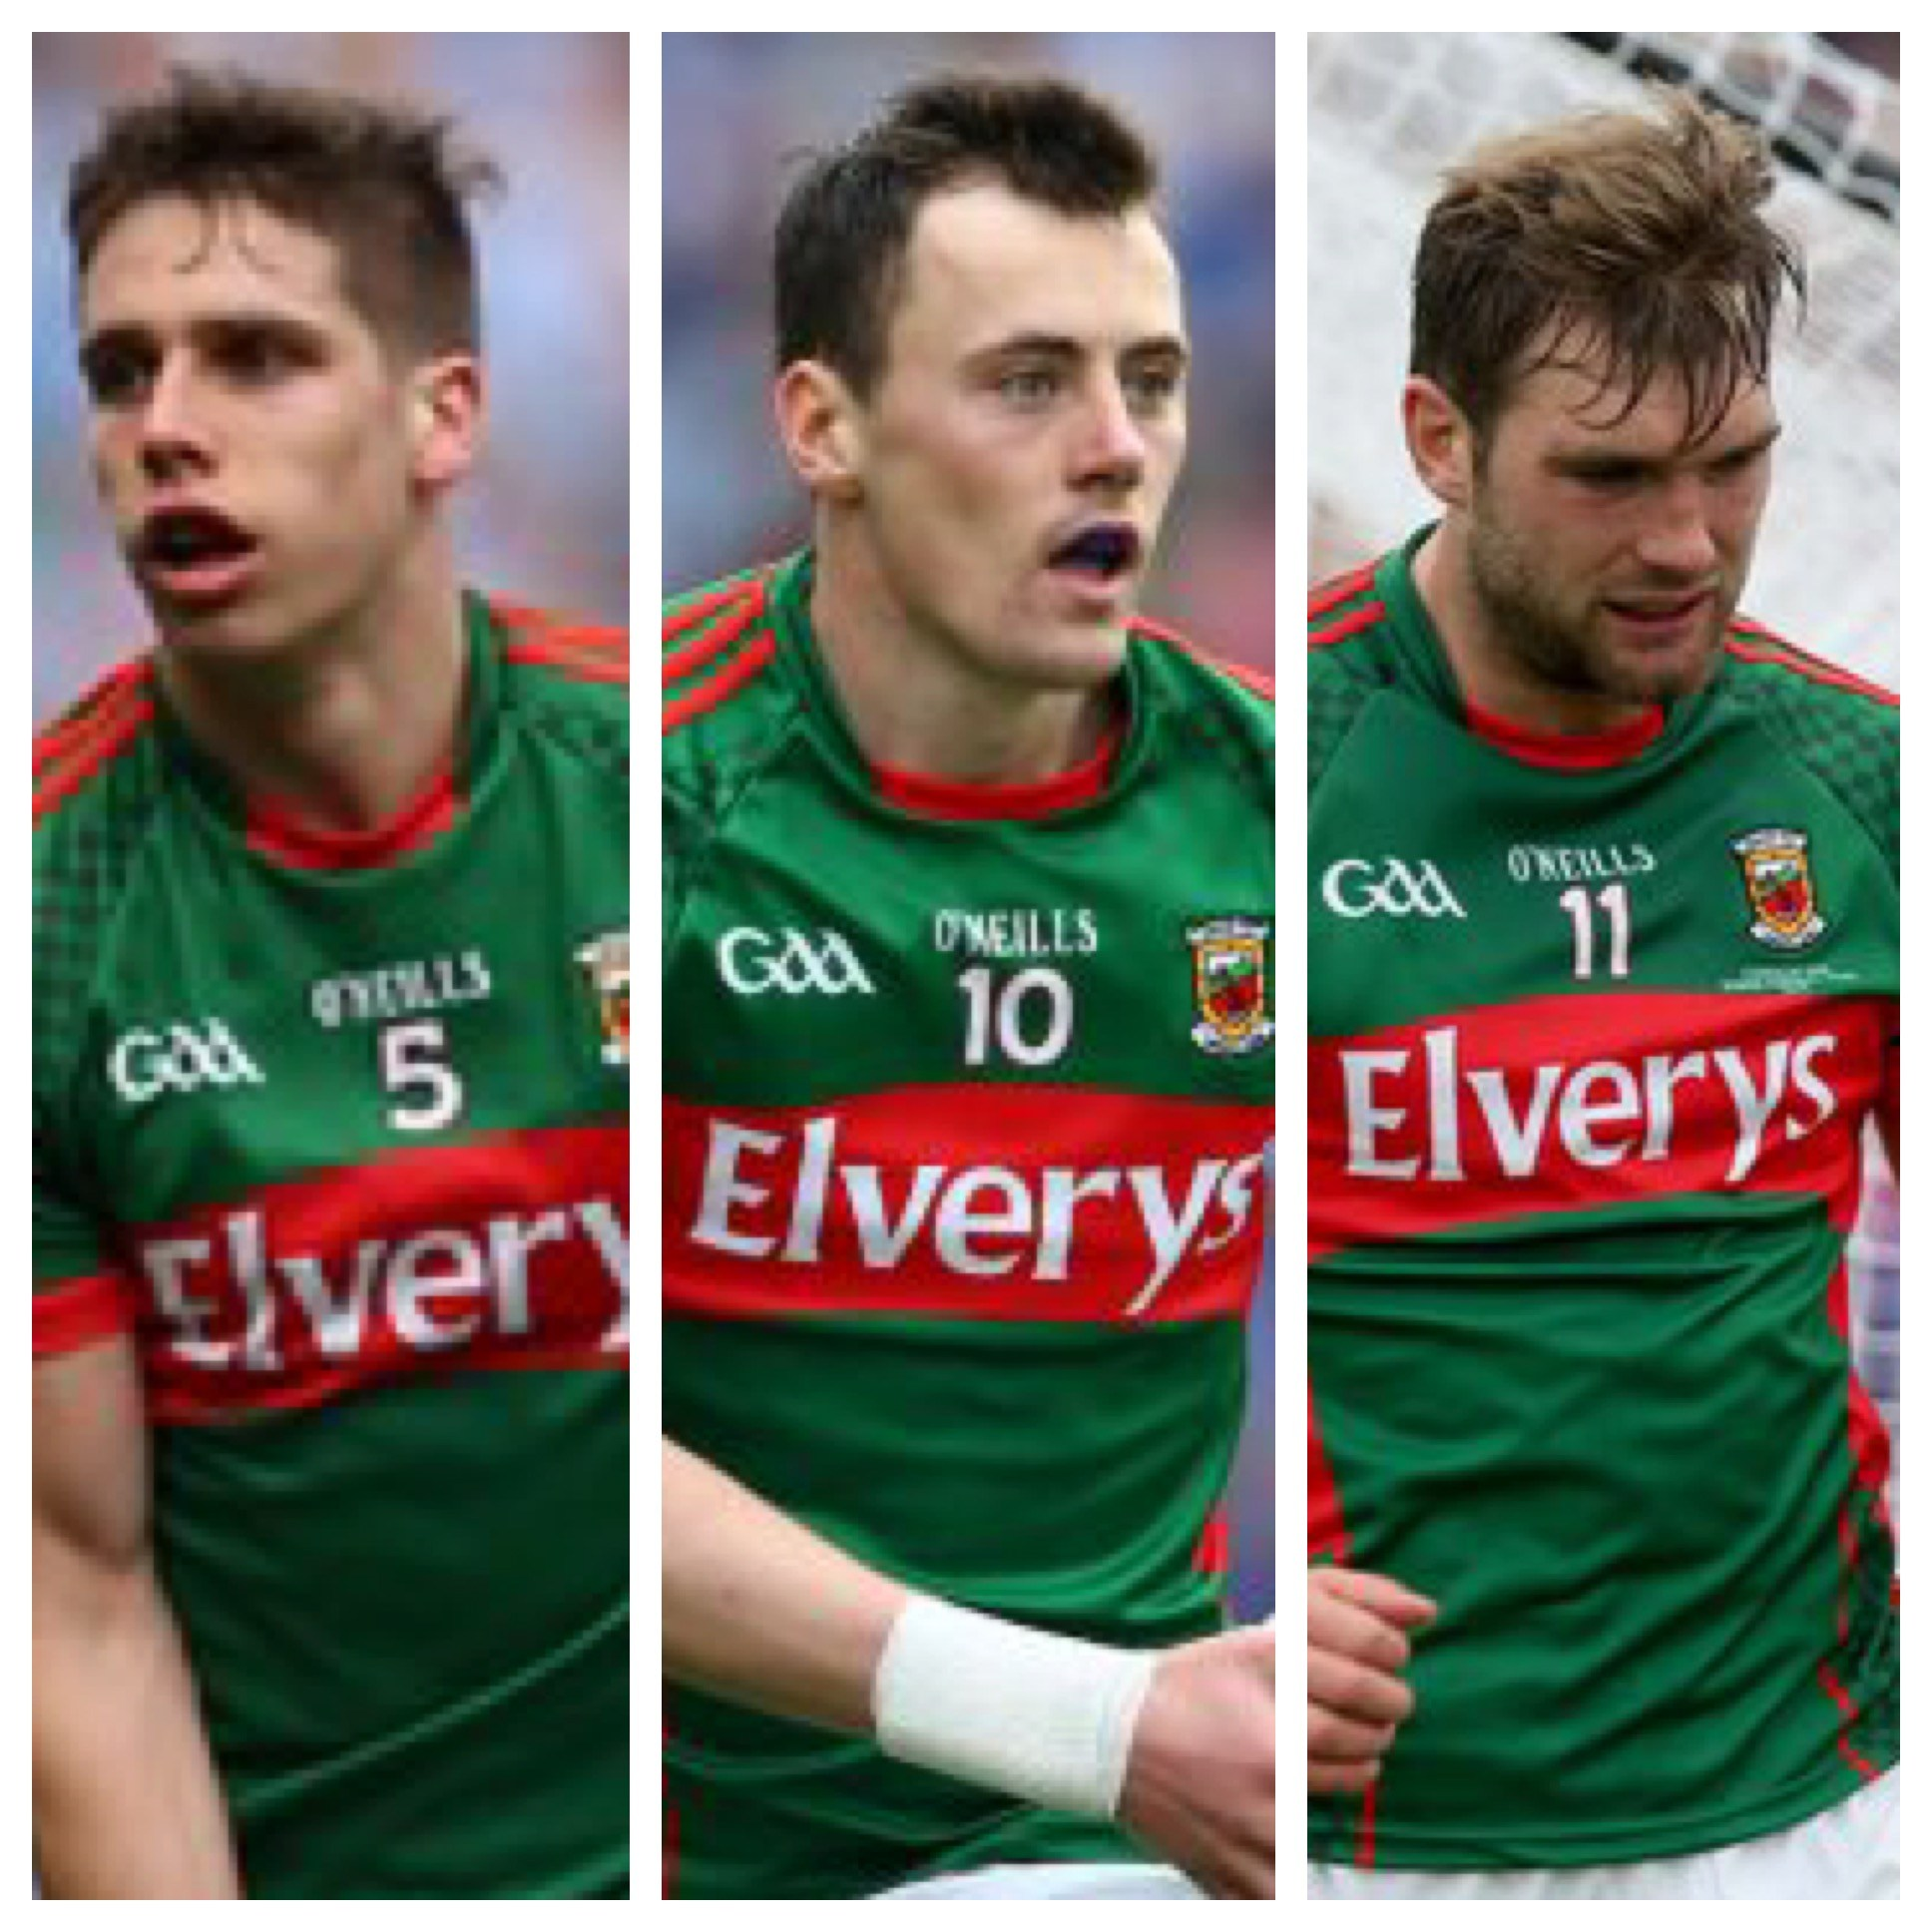player: (656, 69, 1285, 1916), (31, 37, 614, 1833), (1320, 58, 1900, 1833)
